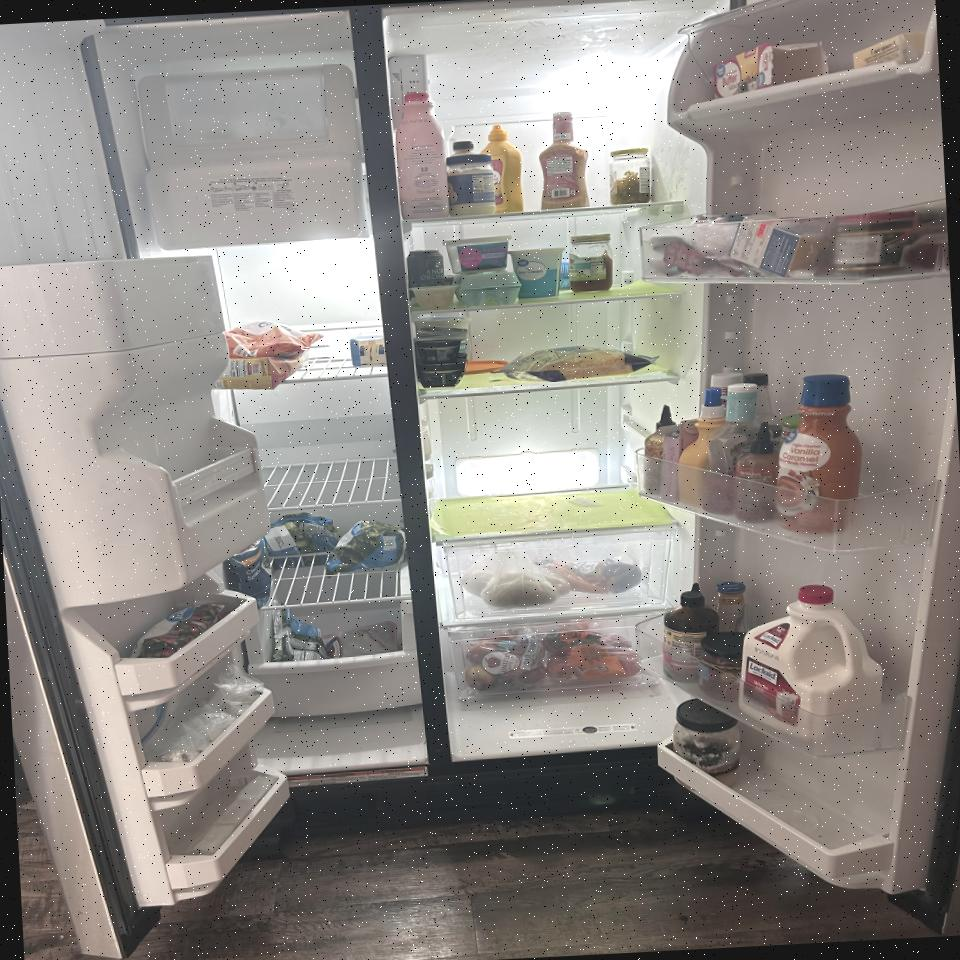Leche: (732, 582, 886, 746)
Mantequilla: (712, 40, 832, 100), (850, 31, 929, 69)
Manzana: (544, 627, 642, 685), (463, 627, 546, 690)
Yogur: (509, 248, 569, 302)
Zanahoria: (544, 554, 643, 597)
